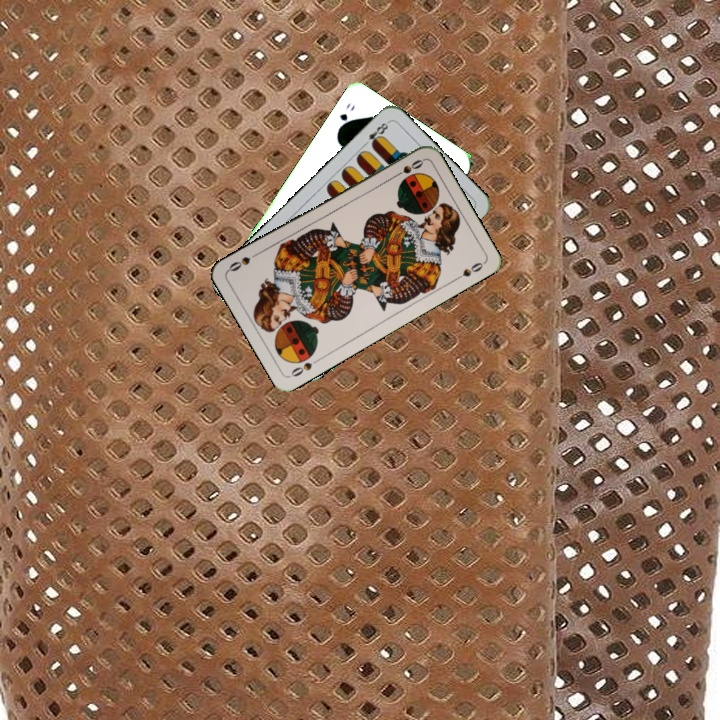E8: (359, 118, 392, 150)
GO: (334, 99, 358, 133)
SO: (389, 155, 426, 181), (287, 354, 323, 379)
